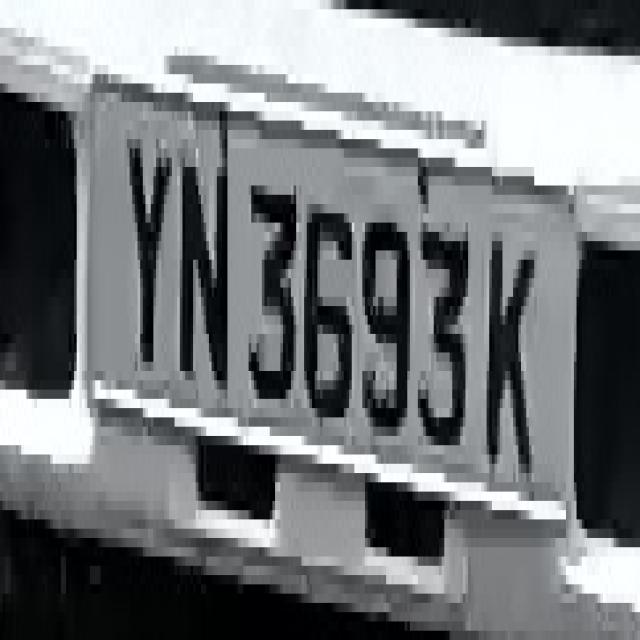3: (418, 186, 471, 492), (249, 139, 296, 445)
6: (299, 148, 352, 446)
9: (362, 185, 412, 464)
K: (482, 167, 532, 501)
N: (178, 111, 235, 418)
Y: (122, 102, 169, 436)
